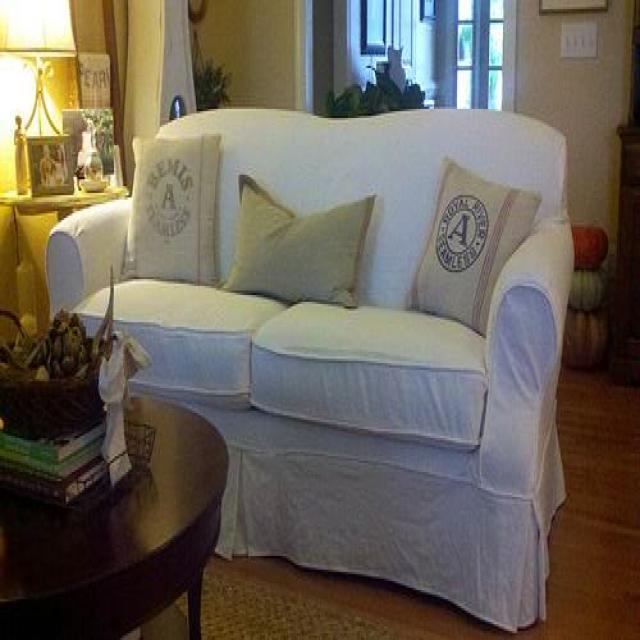sofa: (45, 102, 575, 633)
